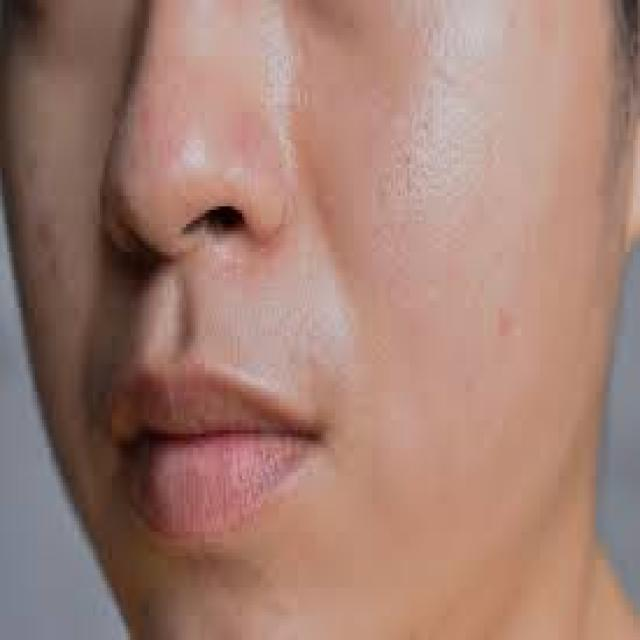normal skin: (31, 21, 494, 511)
